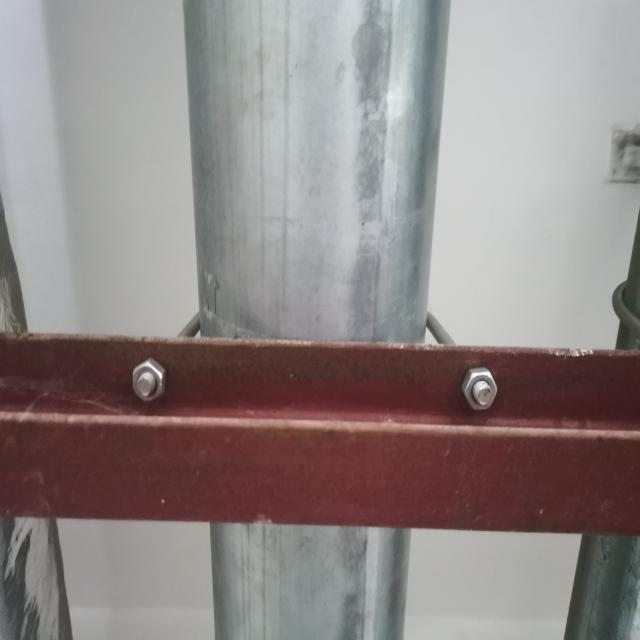bolt nut: (459, 364, 500, 412), (131, 355, 168, 405)
